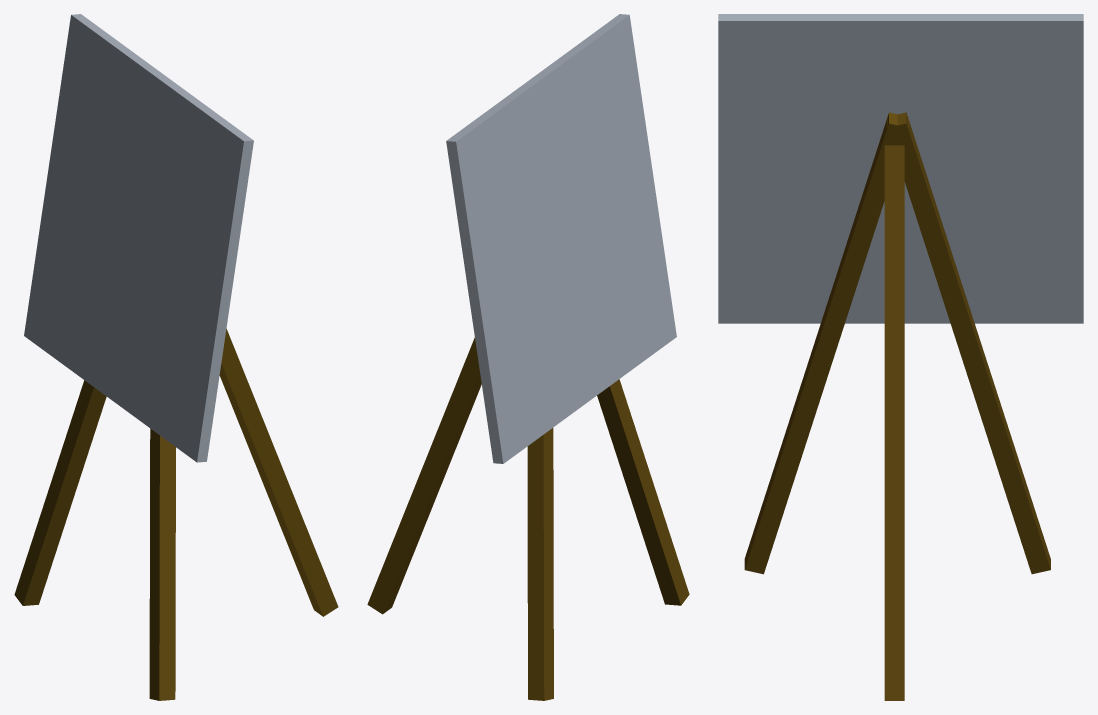
Rendered from Pizarra.fbx.
3 views of the same model, side by side, from view 1: azimuth 30°, elevation 25°; view 2: azimuth 150°, elevation 25°; view 3: azimuth 270°, elevation 25° (orthographic). The views are drawn at different scales.
Visible parts, largest first — view 1: pCube12, pCube13, pCube15, pCube14; view 2: pCube12, pCube14, pCube15, pCube13; view 3: pCube12, pCube15, pCube14, pCube13.
Boxes of the visible parts, x1,y1,x2,y2 form: pCube12: (24,14,253,462); pCube13: (149,428,175,700); pCube15: (219,328,338,616); pCube14: (14,380,106,605); pCube12: (446,14,676,463); pCube14: (527,428,553,700); pCube15: (367,337,481,614); pCube13: (597,379,689,605); pCube12: (718,14,1083,323); pCube15: (884,145,904,700); pCube14: (887,112,1050,574); pCube13: (744,112,908,574).
Size of the model in its own units: 0.8215 by 1.82 by 1.
